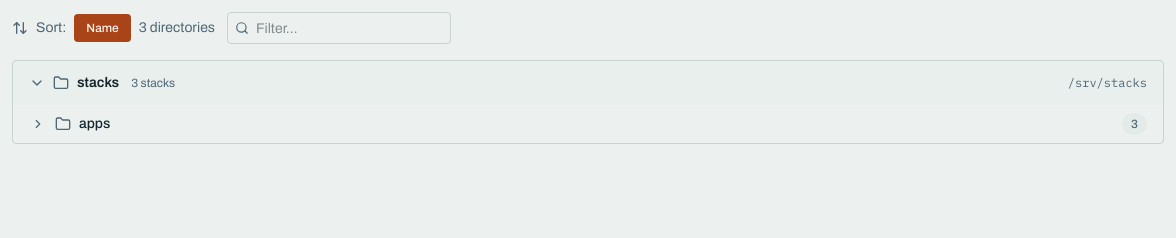
Test: DirectoriesTab — collapsing › expands a folder without expanding its grandchildren
Click the button named "Expand folder" at (38, 124), box [29,115,47,133]
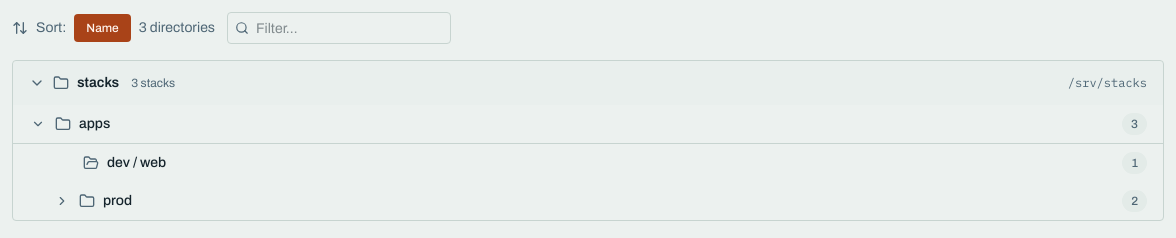
Expected: the text "prod" is shown, [103,193,132,208]
